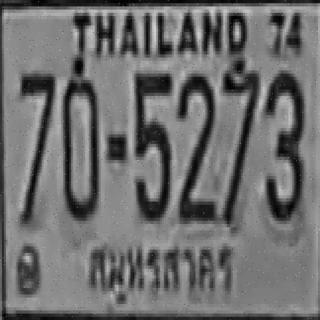N00: (62, 70, 98, 218)
N02: (176, 72, 213, 219)
N03: (264, 69, 303, 219)
N05: (133, 70, 171, 218)
N07: (221, 64, 259, 224), (18, 72, 53, 222), (221, 64, 259, 182)
